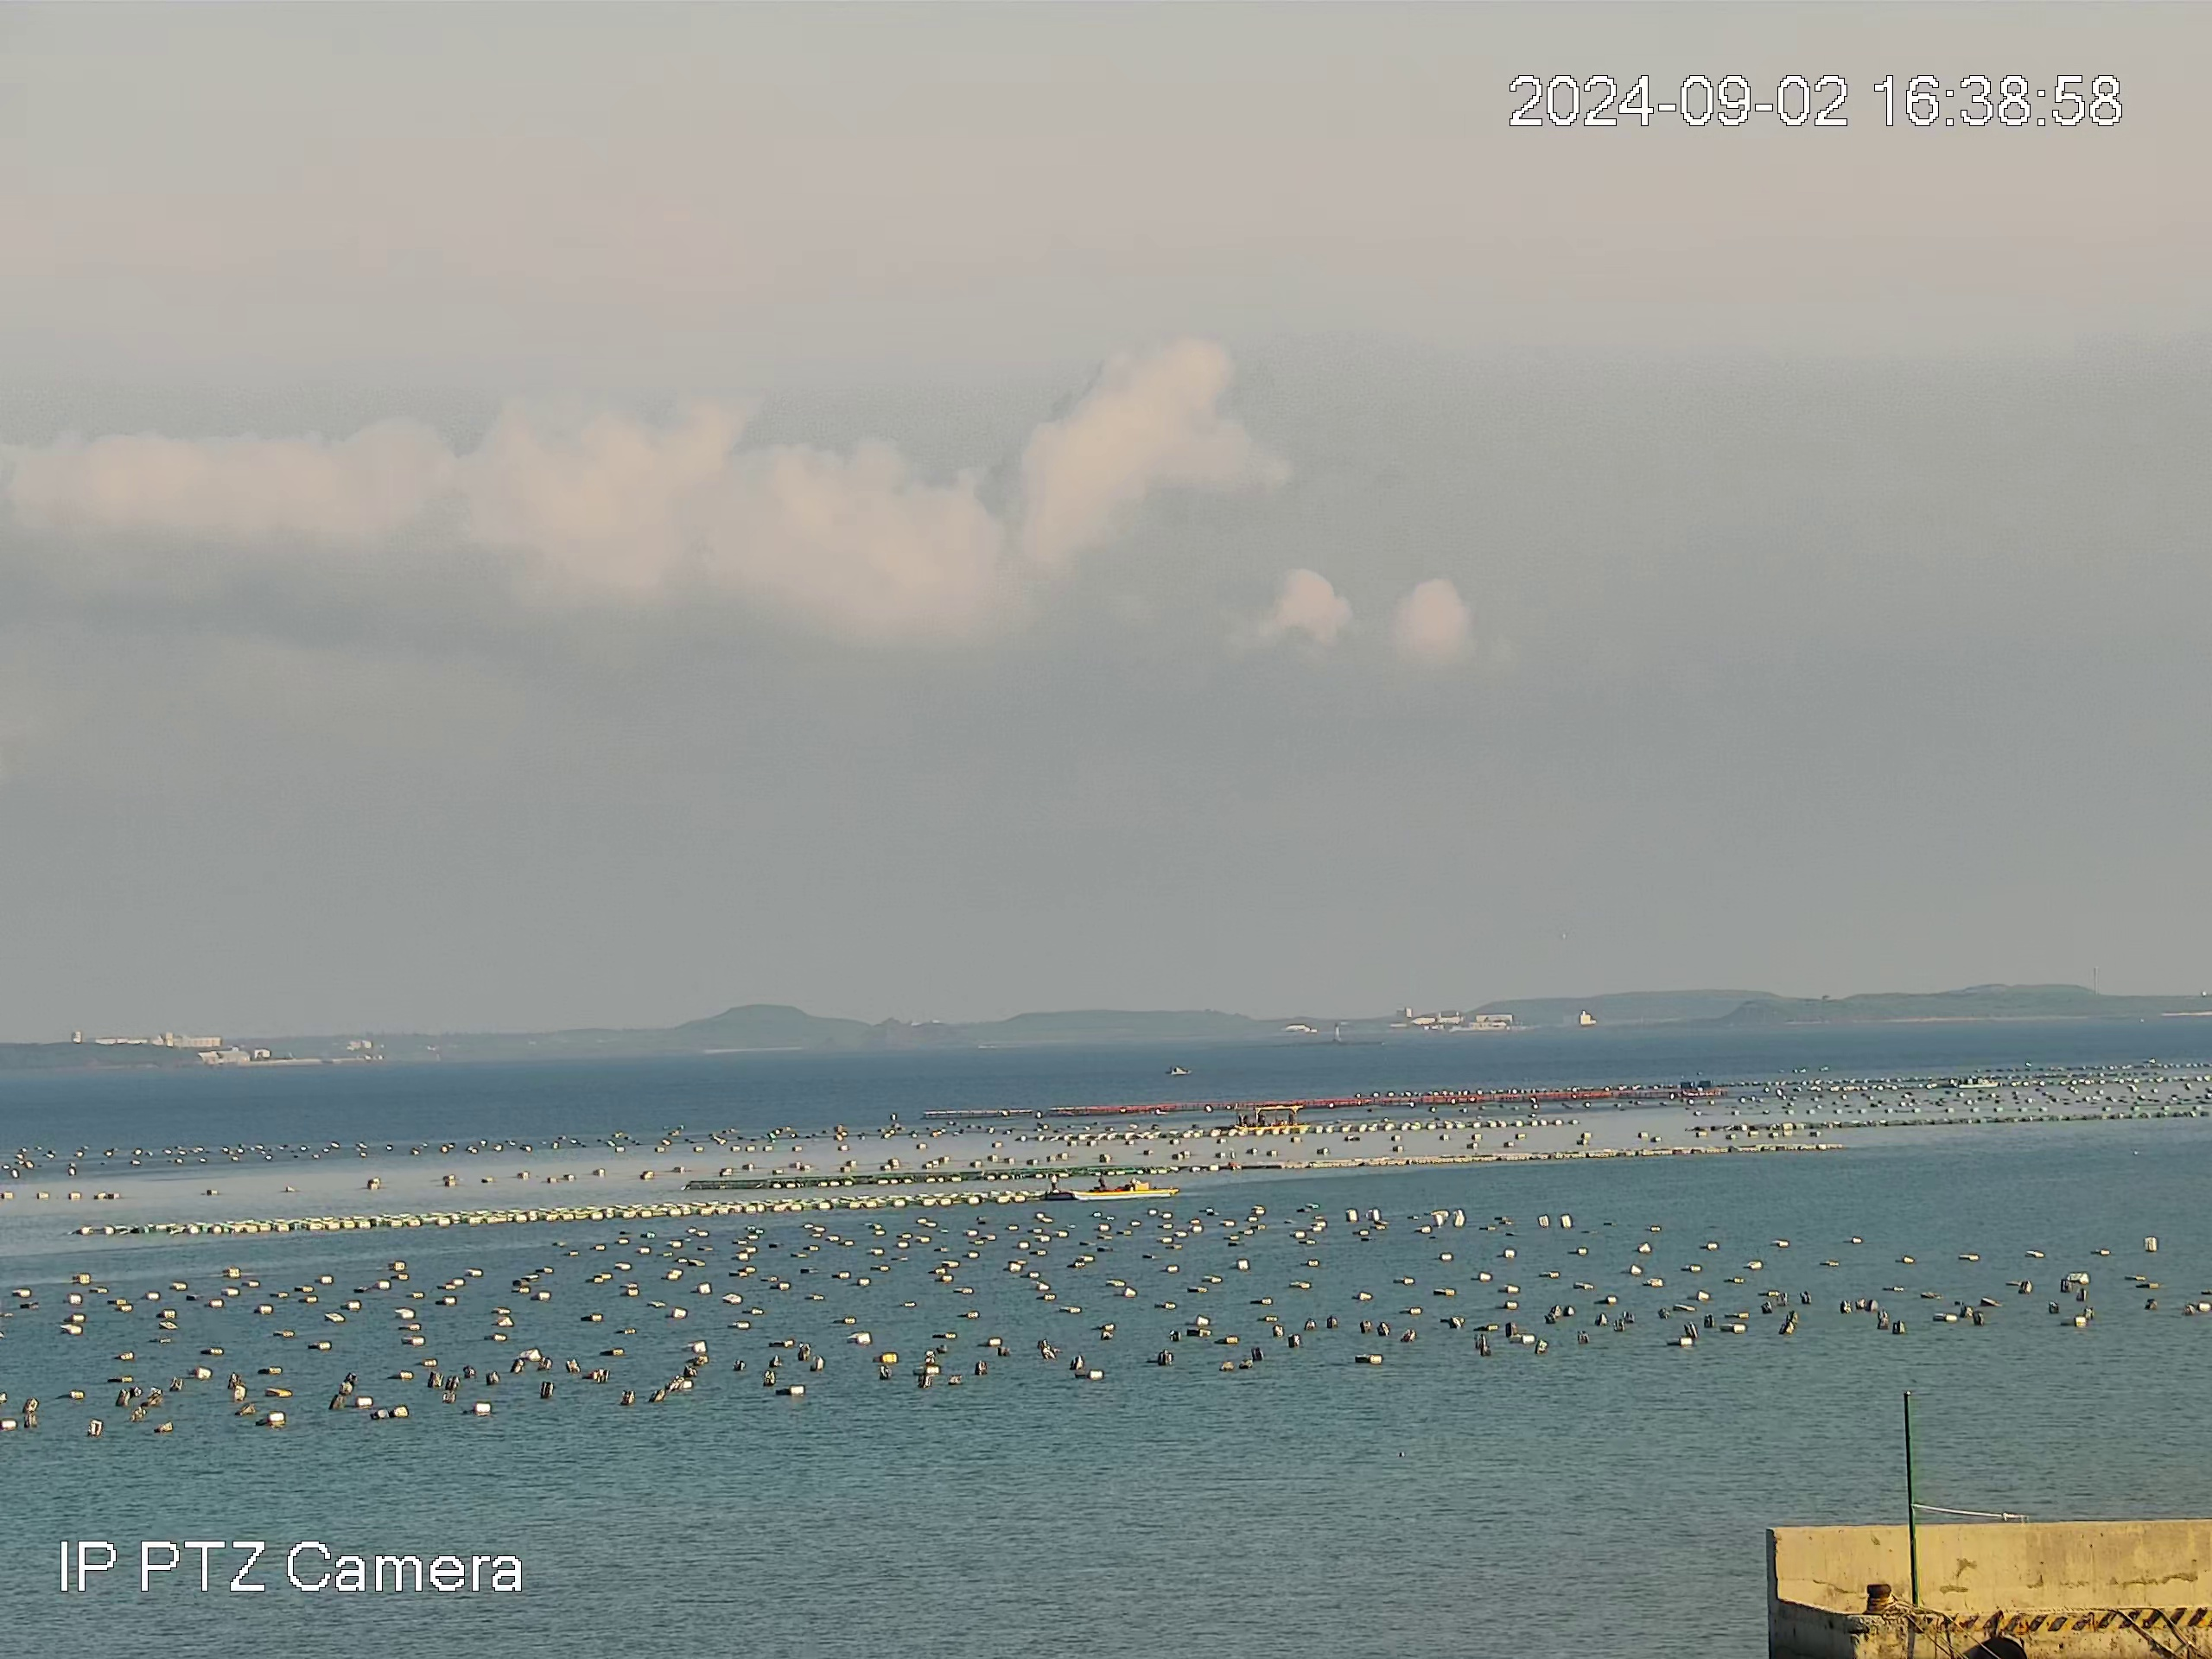boat: (1038, 1173, 1179, 1201), (1231, 1101, 1312, 1131), (1956, 1075, 2000, 1089), (1167, 1063, 1191, 1077)
